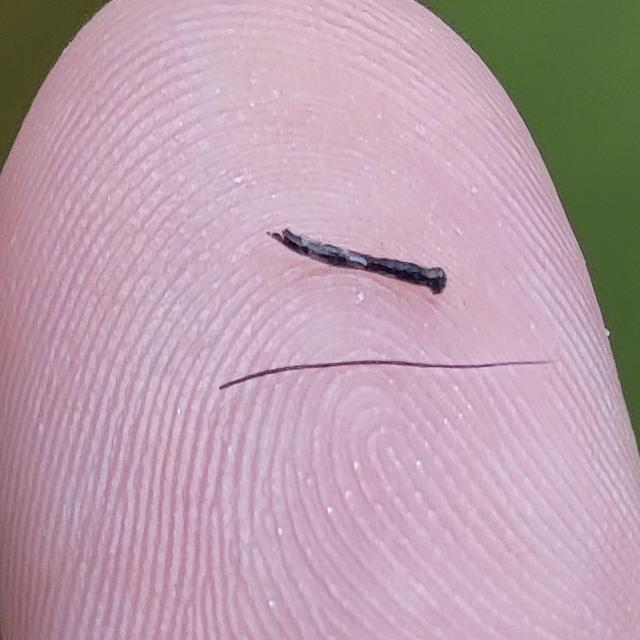hair: (206, 346, 562, 399)
